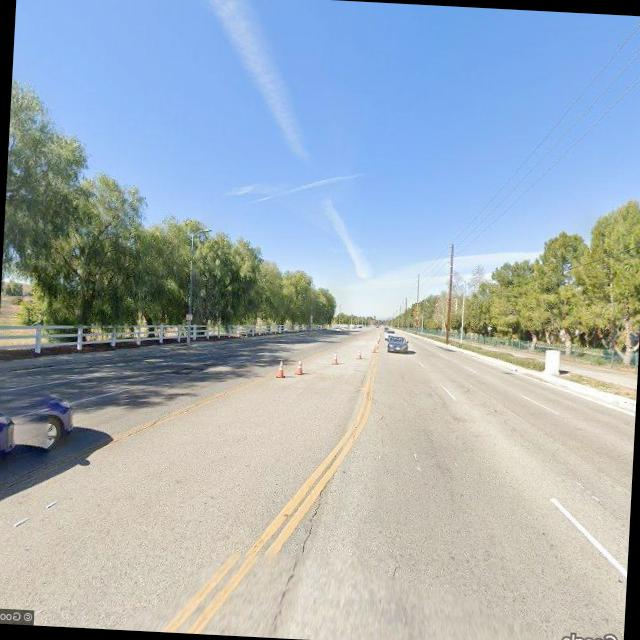pothole: (2, 382, 211, 500), (274, 445, 339, 634)
